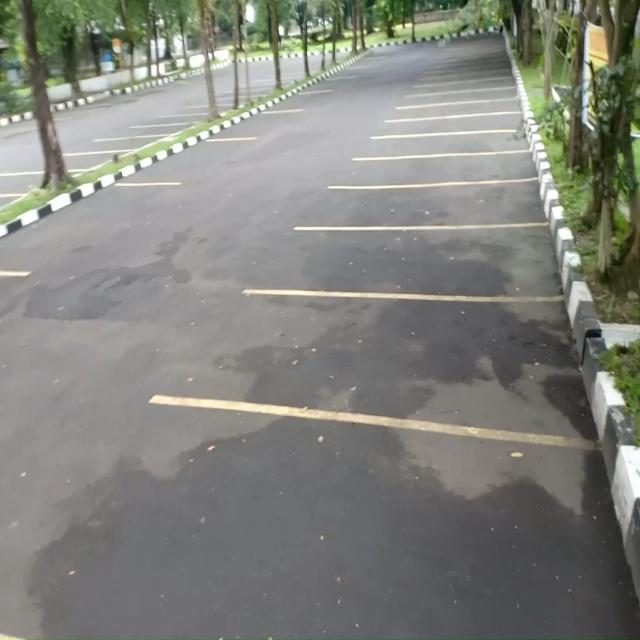empty: (251, 291, 579, 434), (297, 222, 561, 298), (336, 182, 546, 228), (355, 154, 535, 187), (373, 134, 531, 155), (168, 140, 237, 185), (231, 110, 283, 141), (274, 92, 322, 112)
